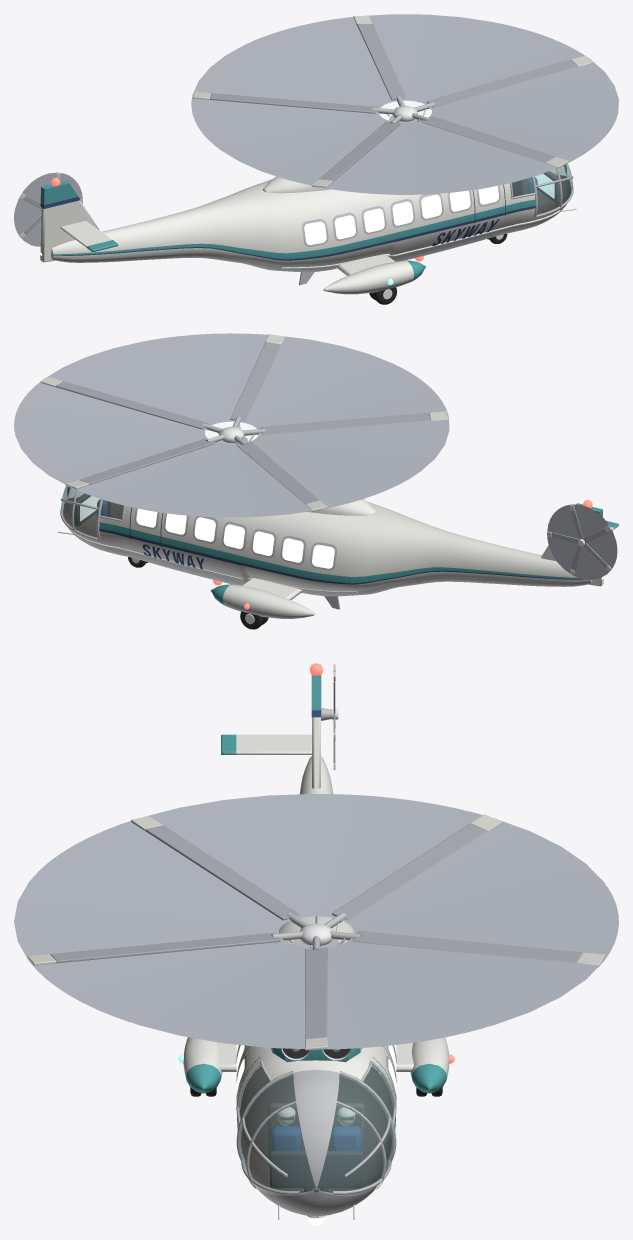
File: helicopter.glb
The picture shows the model from 3 angles, top to bottom: view 1: azimuth 30°, elevation 25°; view 2: azimuth 150°, elevation 25°; view 3: azimuth 270°, elevation 25°; orthographic projection. The views are drawn at different scales.
Visible parts, largest first — view 1: RotorBlur, Body, Rotor, TailBlur; view 2: RotorBlur, Body, Rotor, TailBlur, TailRotor; view 3: RotorBlur, Body, Rotor.
Part boxes in pixels (x1=…): RotorBlur: x1=191, y1=14, x2=618, y2=194; Body: x1=40, y1=163, x2=576, y2=304; Rotor: x1=193, y1=16, x2=592, y2=187; TailBlur: x1=14, y1=172, x2=82, y2=246; RotorBlur: x1=14, y1=333, x2=449, y2=517; Body: x1=57, y1=486, x2=618, y2=629; Rotor: x1=40, y1=334, x2=447, y2=511; TailBlur: x1=547, y1=504, x2=617, y2=579; TailRotor: x1=547, y1=505, x2=611, y2=575; RotorBlur: x1=14, y1=794, x2=618, y2=1049; Body: x1=178, y1=675, x2=454, y2=1219; Rotor: x1=27, y1=814, x2=605, y2=1050.
Bounding box in the file's own units: 12.37 × 3.56 × 8.04.
